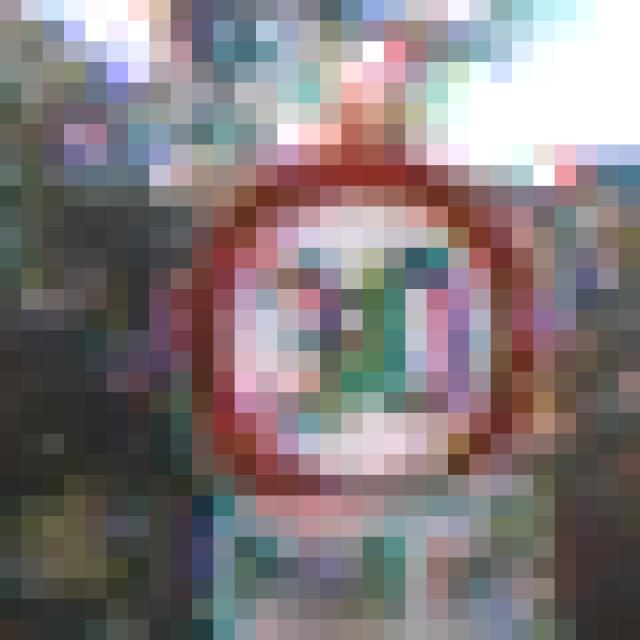Speed Limit -30-: (118, 113, 502, 506)
